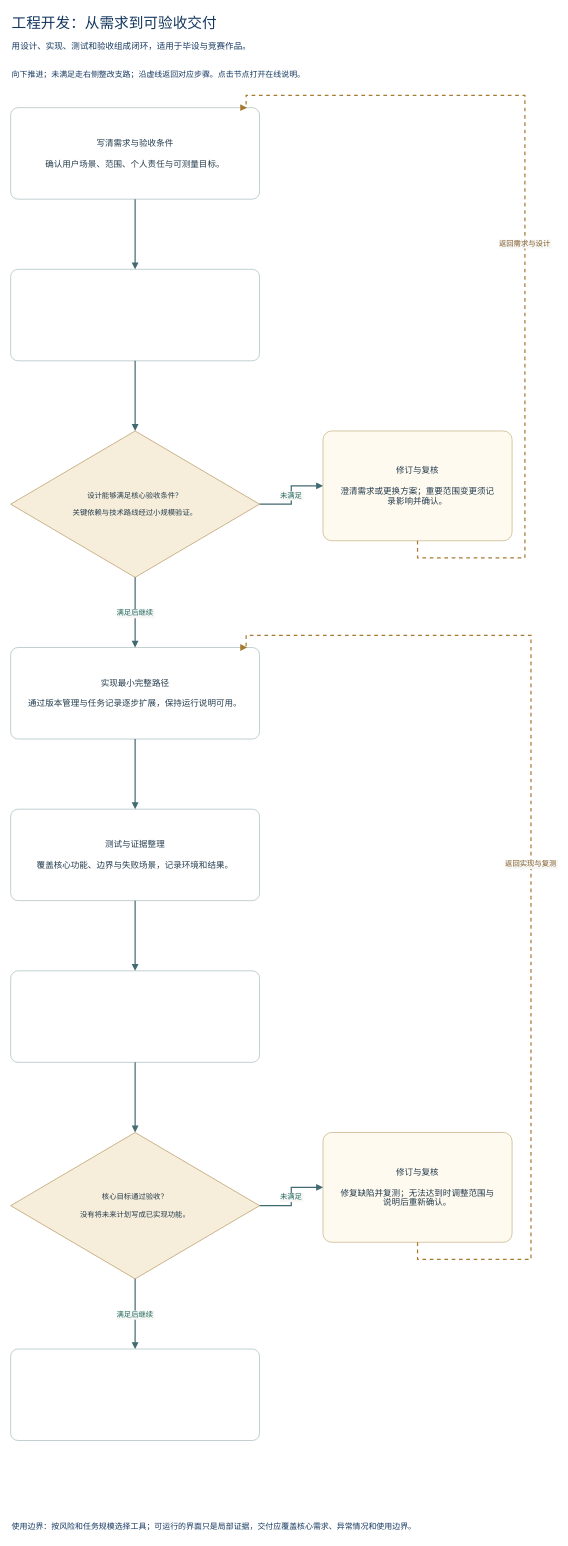
This 568x1546 diagram has some shape labels left out. The centre of each missing label's shape, as x and y in pixels:
发布或交接已确认版本 确认公开授权、依赖许可、回退办法与接收记录。: the point at 135,1394
按需求演示与验收 使用待交付版本复查，说明已实现范围、缺陷与限制。: the point at 135,1016
详细设计与关键原型 描述接口、数据、异常处理和依赖，先验证高风险环节。: the point at 135,315
